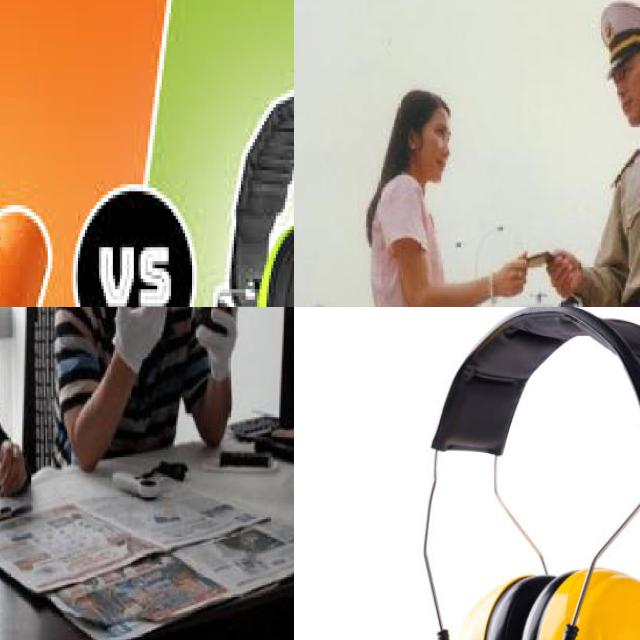Ear-protection: (401, 307, 640, 640), (245, 215, 294, 307)
face_nomask: (415, 108, 451, 176), (615, 53, 640, 127)
hand_glove: (110, 307, 171, 363), (196, 307, 240, 374)
hand_noglove: (544, 243, 578, 301), (491, 249, 529, 297), (0, 437, 22, 497)
head_nohelmet: (593, 3, 640, 66), (391, 84, 458, 126)
person: (343, 77, 526, 307), (48, 307, 229, 462), (558, 7, 640, 307)
